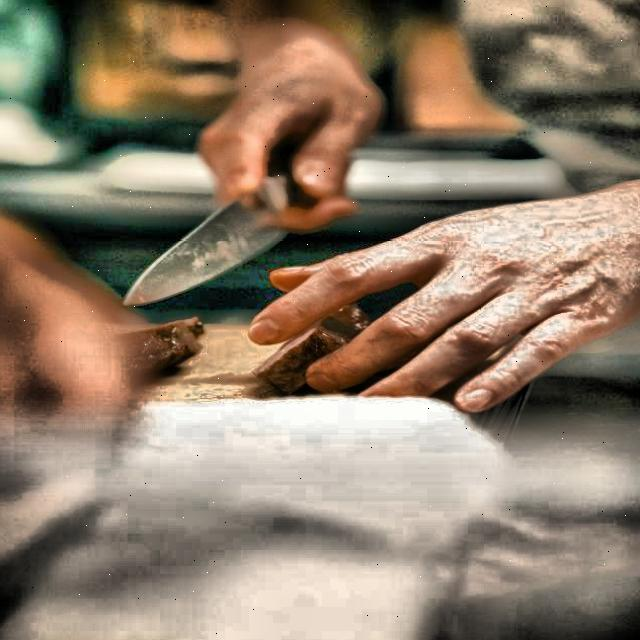knife: (106, 159, 330, 317)
